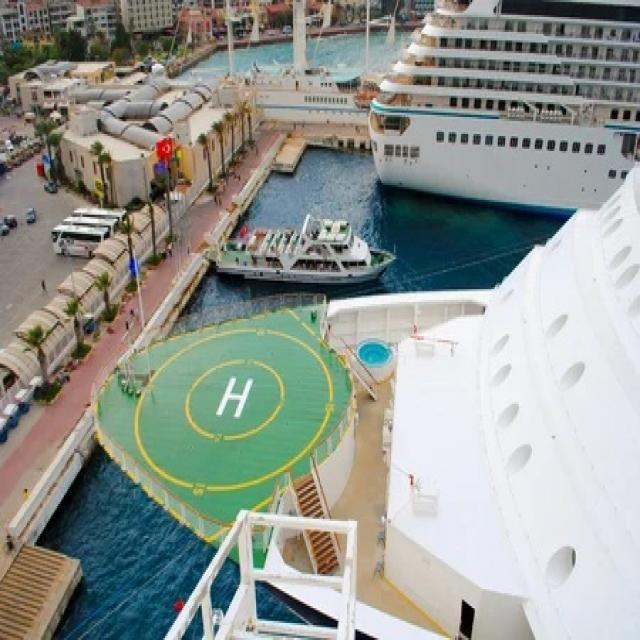helipad: (181, 351, 283, 442)
